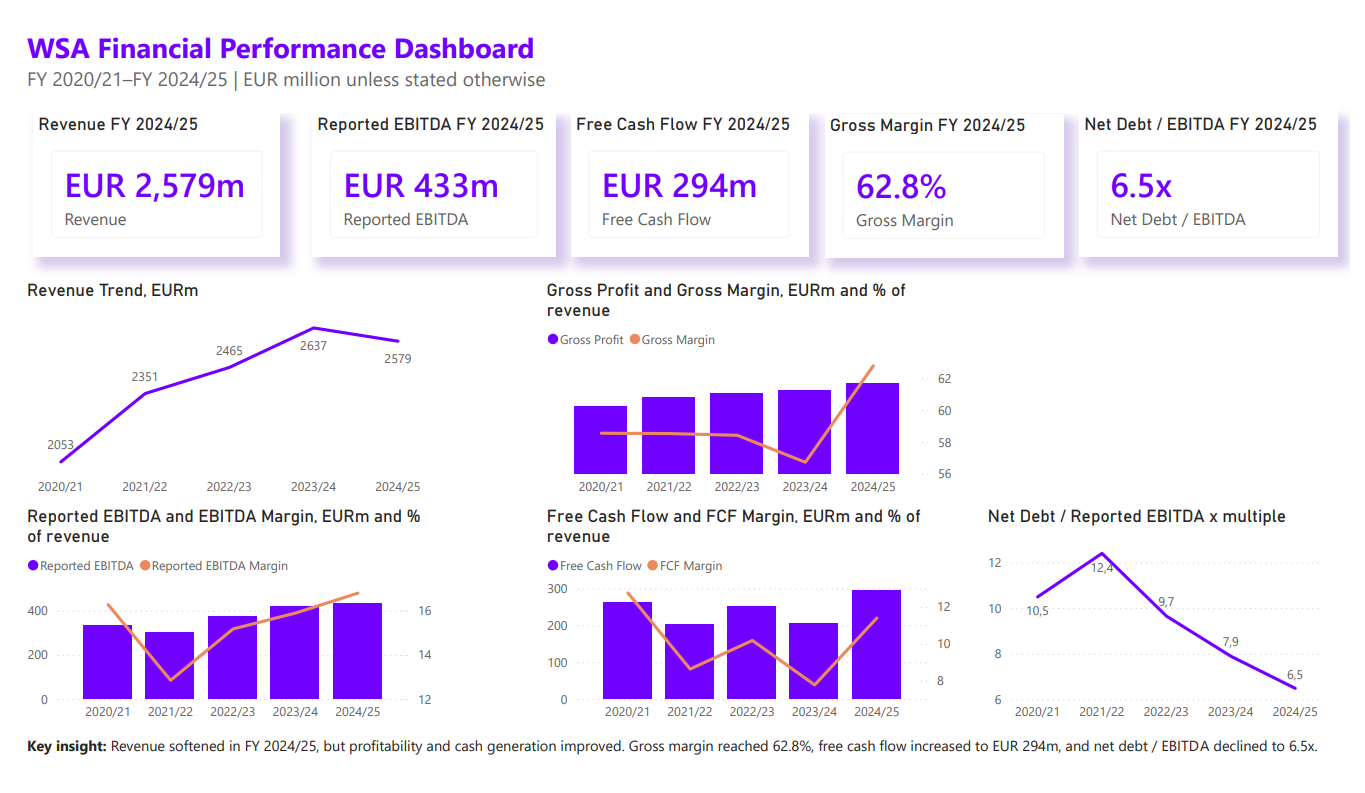

The page's visual inventory and layout, read from the dashboard file:
{"tool":"powerbi","page":{"name":"Page 1","canvas":[1280,720],"ordinal":0},"visuals":[{"type":"cardVisual","title":"Revenue FY 2024/25","fields":{"Data":["tbl_powerbi_data2.Revenue FY25 Card"]},"box":[11,86.8,238.5,138.2],"z":0},{"type":"cardVisual","title":"Reported EBITDA FY 2024/25","fields":{"Data":["tbl_powerbi_data2.Reported EBITDA FY25 Card"]},"box":[280,86.8,234.8,138.2],"z":1000},{"type":"cardVisual","title":"Free Cash Flow FY 2024/25","fields":{"Data":["tbl_powerbi_data2.Free Cash Flow FY25 Card"]},"box":[529.5,86.8,228.7,138.2],"z":2000},{"type":"cardVisual","title":"Gross Margin FY 2024/25","fields":{"Data":["tbl_powerbi_data2.Gross Margin FY25 Card"]},"box":[774.1,88,229.9,138.2],"z":3000},{"type":"cardVisual","title":"Net Debt / EBITDA FY 2024/25","fields":{"Data":["tbl_powerbi_data2.Net Debt EBITDA FY25 Card"]},"box":[1018.6,86.8,249.5,138.2],"z":4000},{"type":"lineChart","title":"Revenue Trend, EURm","fields":{"Category":["tbl_powerbi_data2.Year"],"Y":["Sum(tbl_powerbi_data2.Value)"]},"box":[0,247,399.9,217.7],"z":5000},{"type":"lineClusteredColumnComboChart","title":"Gross Profit and Gross Margin, EURm and % of revenue","fields":{"Category":["tbl_powerbi_data2.Year"],"Y":["tbl_powerbi_data2.Gross Profit"],"Y2":["tbl_powerbi_data2.Gross Margin"]},"box":[501.4,247,399.9,217.7],"z":6000},{"type":"lineClusteredColumnComboChart","title":"Reported EBITDA and EBITDA Margin, EURm and % of revenue","fields":{"Category":["tbl_powerbi_data2.Year"],"Y":["tbl_powerbi_data2.Reported EBITDA"],"Y2":["tbl_powerbi_data2.Reported EBITDA Margin"]},"box":[0,464.7,399.9,217.7],"z":7000},{"type":"lineClusteredColumnComboChart","title":"Free Cash Flow and FCF Margin, EURm and % of revenue","fields":{"Category":["tbl_powerbi_data2.Year"],"Y":["tbl_powerbi_data2.Free Cash Flow"],"Y2":["tbl_powerbi_data2.FCF Margin"]},"box":[501.4,464.7,398.6,217.7],"z":8000},{"type":"lineChart","title":"Net Debt / Reported EBITDA x multiple","fields":{"Category":["tbl_powerbi_data2.Year"],"Y":["tbl_powerbi_data2.Net Debt EBITDA"]},"box":[925.7,464.7,333.8,217.7],"z":9000},{"type":"textbox","box":[0,0,1267.9,86.4],"z":10000},{"type":"textbox","box":[0,682.3,1259.5,35.5],"z":11000}]}

Visuals, with their boxes on the page's 1280x720 design canvas (x1, y1, x2, y2). These are canvas units, not pixel positions in the 1365x793 screenshot, which may show the page scaled, cropped or inside an application window:
"Revenue FY 2024/25" cardVisual: bbox(11, 87, 250, 225)
"Reported EBITDA FY 2024/25" cardVisual: bbox(280, 87, 515, 225)
"Free Cash Flow FY 2024/25" cardVisual: bbox(530, 87, 758, 225)
"Gross Margin FY 2024/25" cardVisual: bbox(774, 88, 1004, 226)
"Net Debt / EBITDA FY 2024/25" cardVisual: bbox(1019, 87, 1268, 225)
"Revenue Trend, EURm" lineChart: bbox(0, 247, 400, 465)
"Gross Profit and Gross Margin, EURm and % of revenue" lineClusteredColumnComboChart: bbox(501, 247, 901, 465)
"Reported EBITDA and EBITDA Margin, EURm and % of revenue" lineClusteredColumnComboChart: bbox(0, 465, 400, 682)
"Free Cash Flow and FCF Margin, EURm and % of revenue" lineClusteredColumnComboChart: bbox(501, 465, 900, 682)
"Net Debt / Reported EBITDA x multiple" lineChart: bbox(926, 465, 1260, 682)
textbox: bbox(0, 0, 1268, 86)
textbox: bbox(0, 682, 1260, 718)
